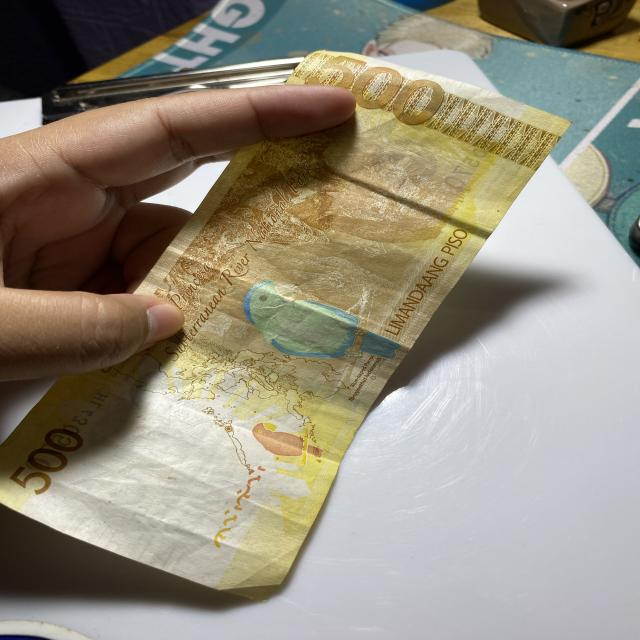500_big_parrot: (242, 279, 406, 365)
500_parrot_watermark: (249, 419, 323, 461)
value_watermark: (143, 511, 198, 543)
watermark: (59, 418, 221, 532)
